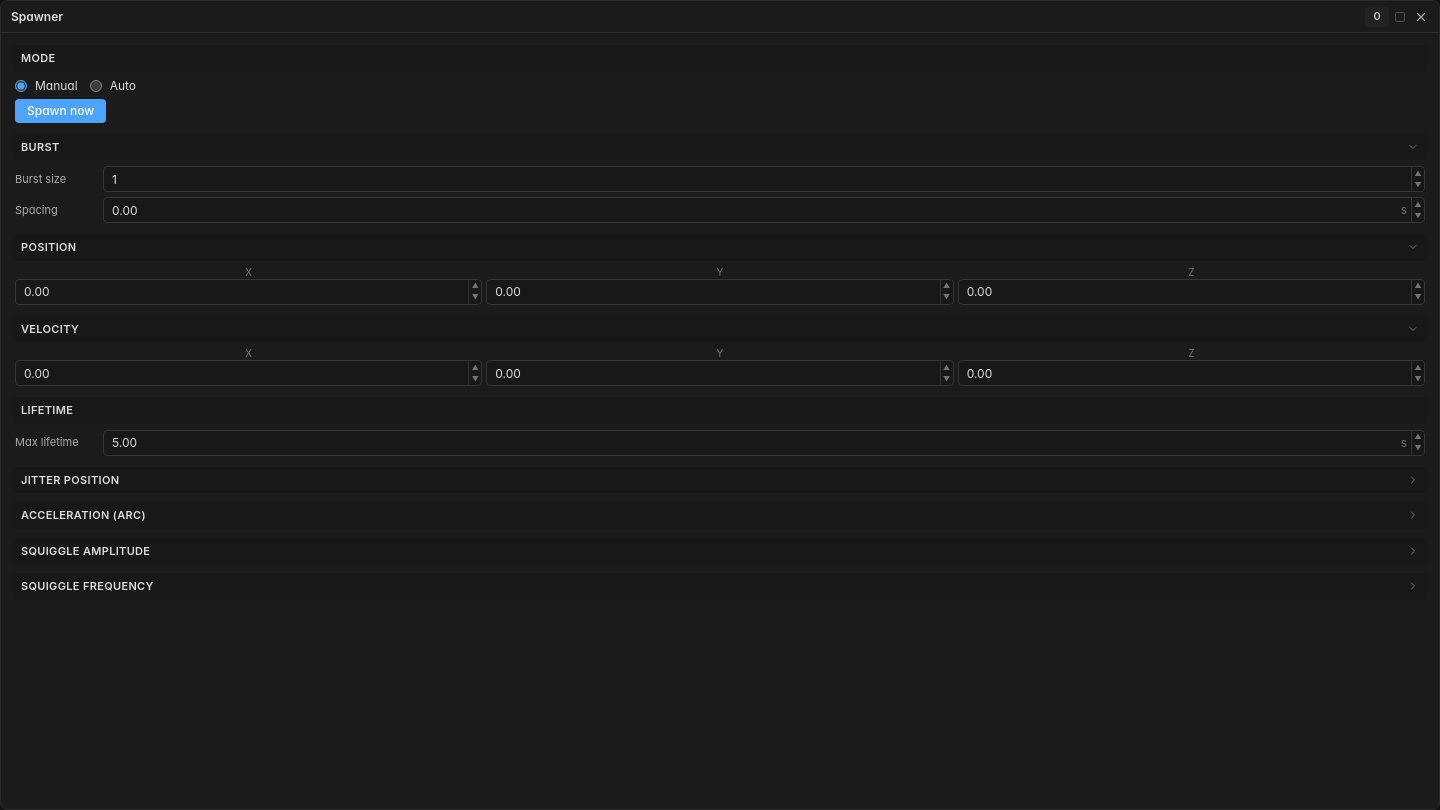
Test: SpawnerPanel › switching Mode from Manual to Auto reveals the Interval Spinner + Enabled checkbox
expect the radio button with aria-label "Manual mode" is checked: met, box [15,80,27,92]
Step 1. Click the radio button with aria-label "Auto mode" → (96, 86), box [90,80,102,92]
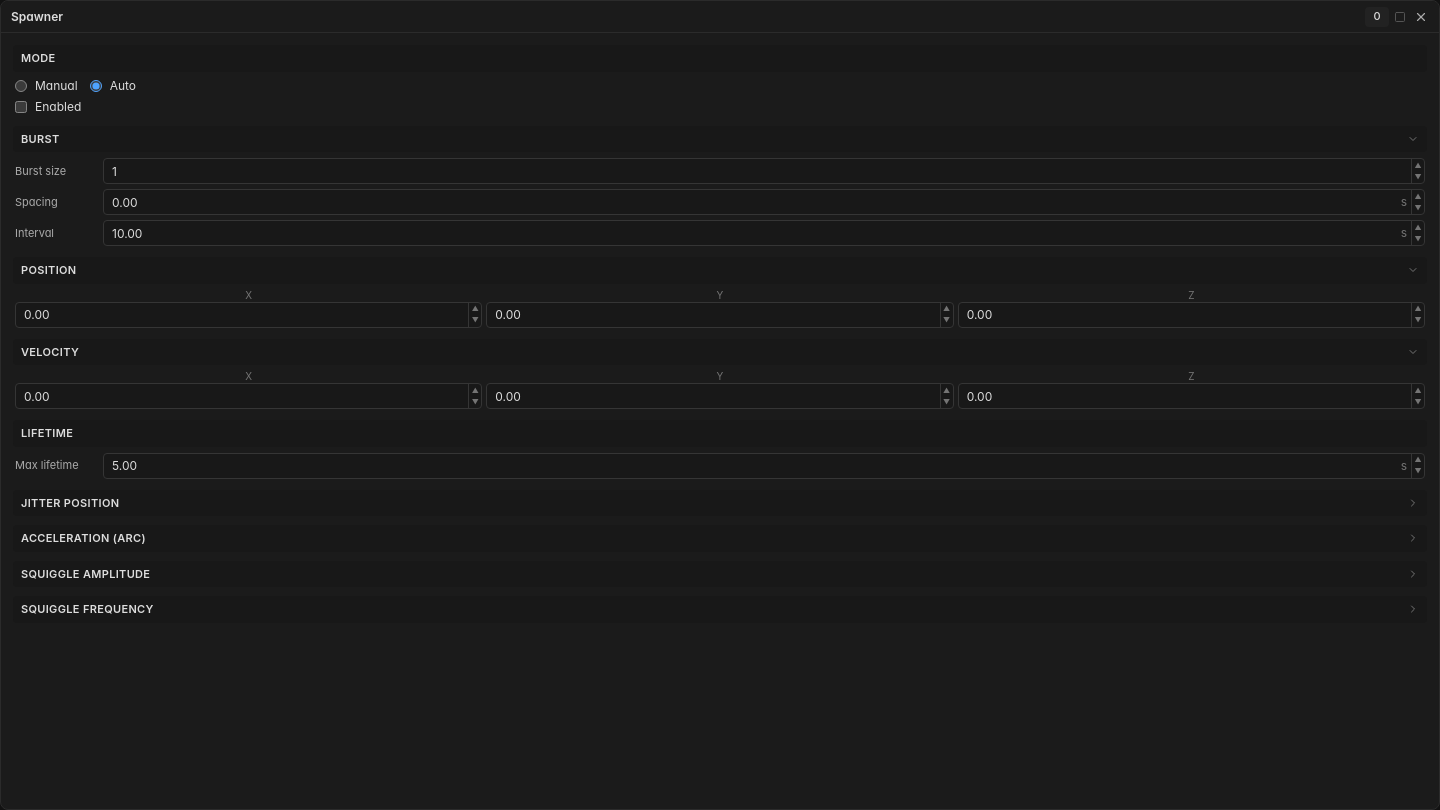
expect the field named "Burst interval" is shown: met, box [103,220,1425,246]
expect the checkbox named "Enable spawner" is shown: met, box [15,100,27,112]
